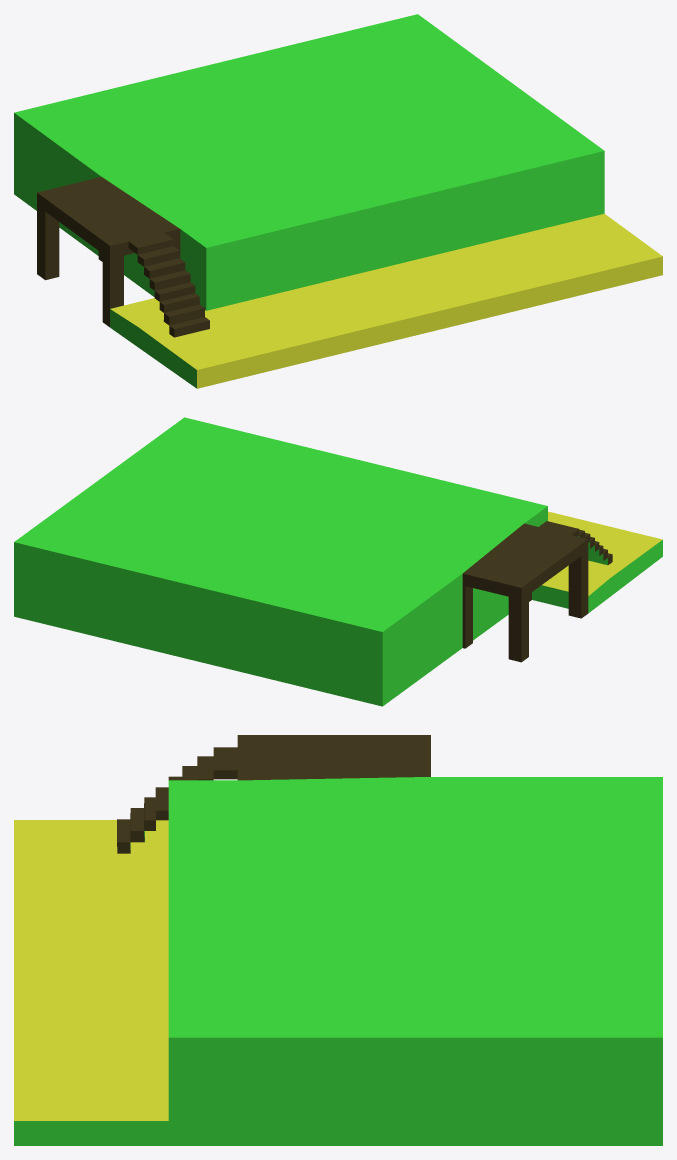
File: base cores  1.fbx
3 renders of one model, top to bottom at view 1: azimuth 30°, elevation 25°; view 2: azimuth 150°, elevation 25°; view 3: azimuth 270°, elevation 25°, orthographic. The views are drawn at different scales.
Parts seen in each view (by area): view 1: Cube; view 2: Cube; view 3: Cube.
Boxes of the visible parts, x1,y1,x2,y2 form: Cube: [14, 14, 662, 388]; Cube: [14, 417, 662, 706]; Cube: [14, 735, 662, 1145].
Bounding box in the file's own units: 1686 × 281 × 1528.
